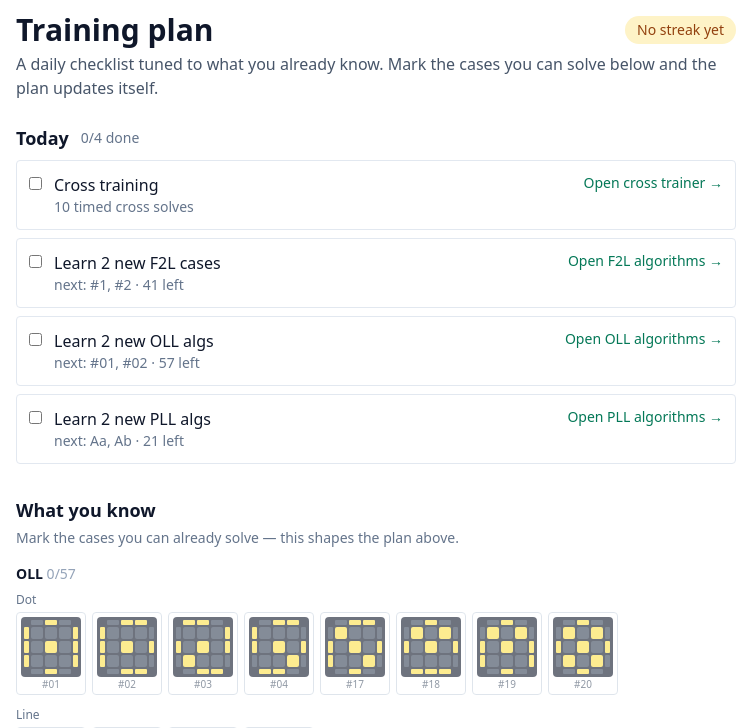
it: TrainingPlan › advances the streak once every task is checked
The width and height of the screenshot is (753, 728).
expect the text with test id "streak" shows "No streak": met, box [637,20,724,39]
Click the checkbox named "Cross training": (36, 184) [29,177,42,190]
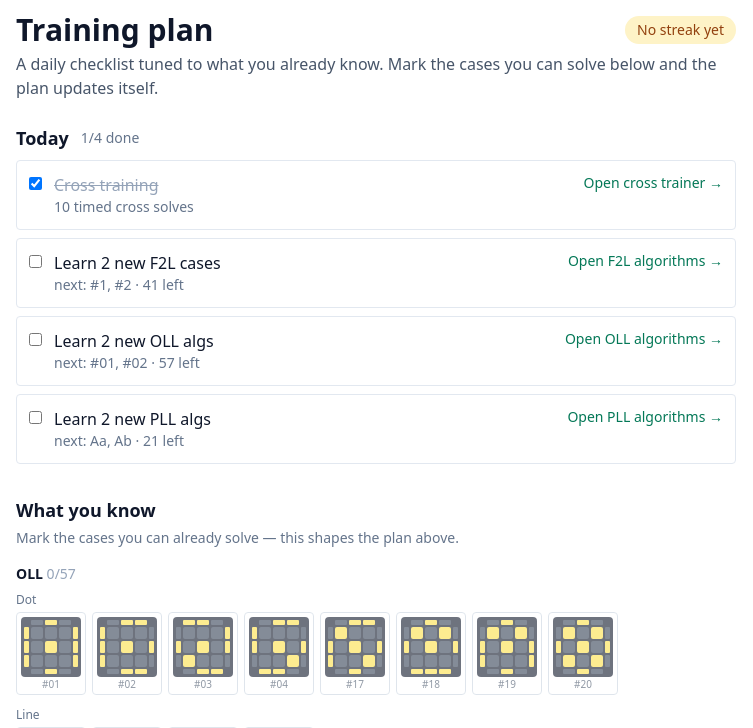
Click the checkbox named "Learn 2 new F2L cases": (36, 262) [29,255,42,268]
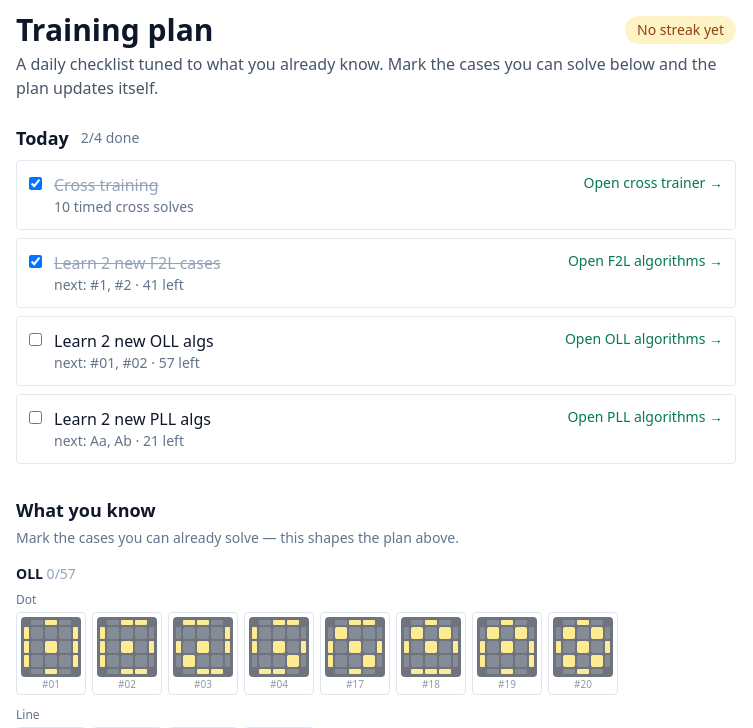
Click the checkbox named "Learn 2 new OLL algs": (36, 340) [29,333,42,346]
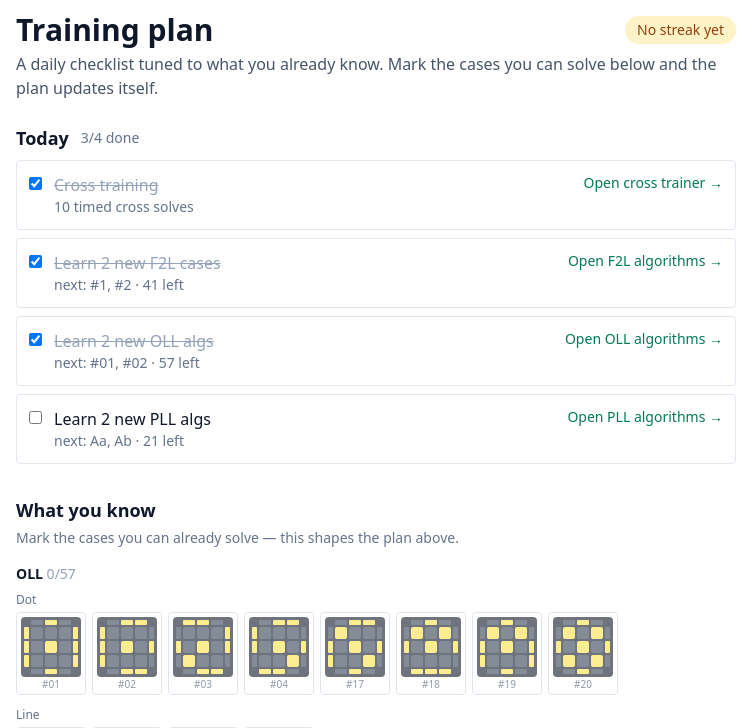
Click the checkbox named "Learn 2 new PLL algs": (36, 418) [29,411,42,424]
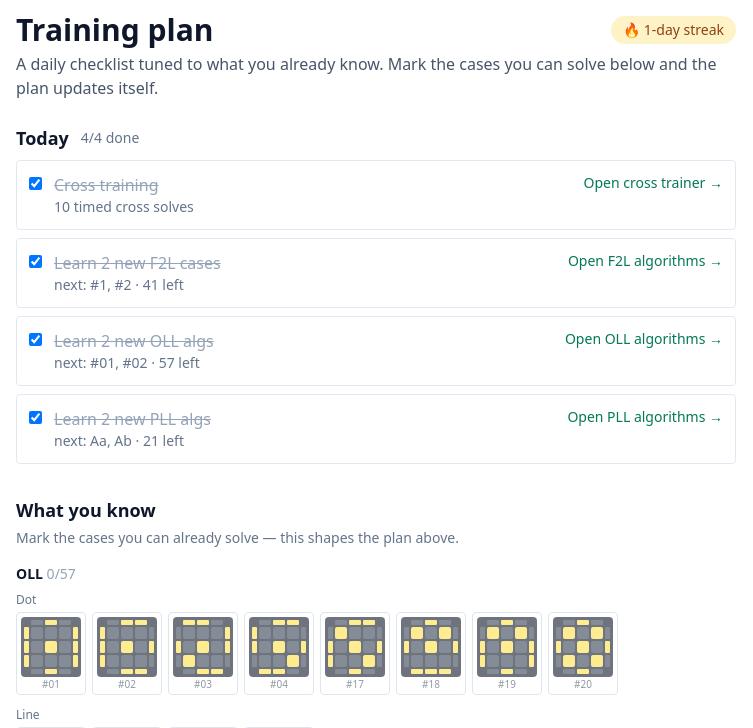
expect the text with test id "streak" shows "1": met, box [623,20,724,39]
